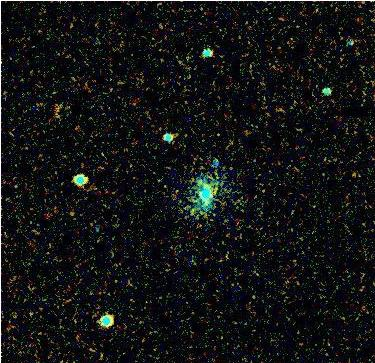star: (185, 170, 215, 200)
